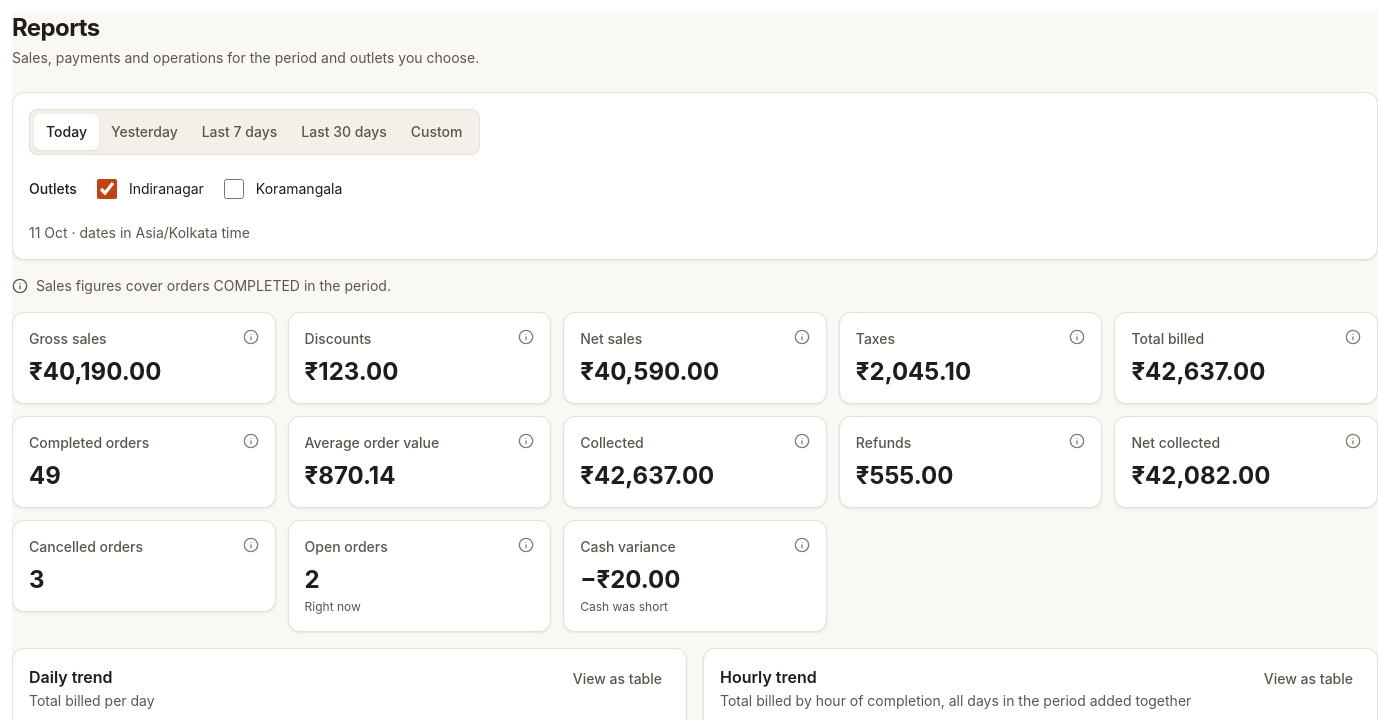
Test case: ReportsPage › shows each definition from the response when its info button is focused
Click the button named "How gross sales is calculated": (251, 337) [235,321,267,353]
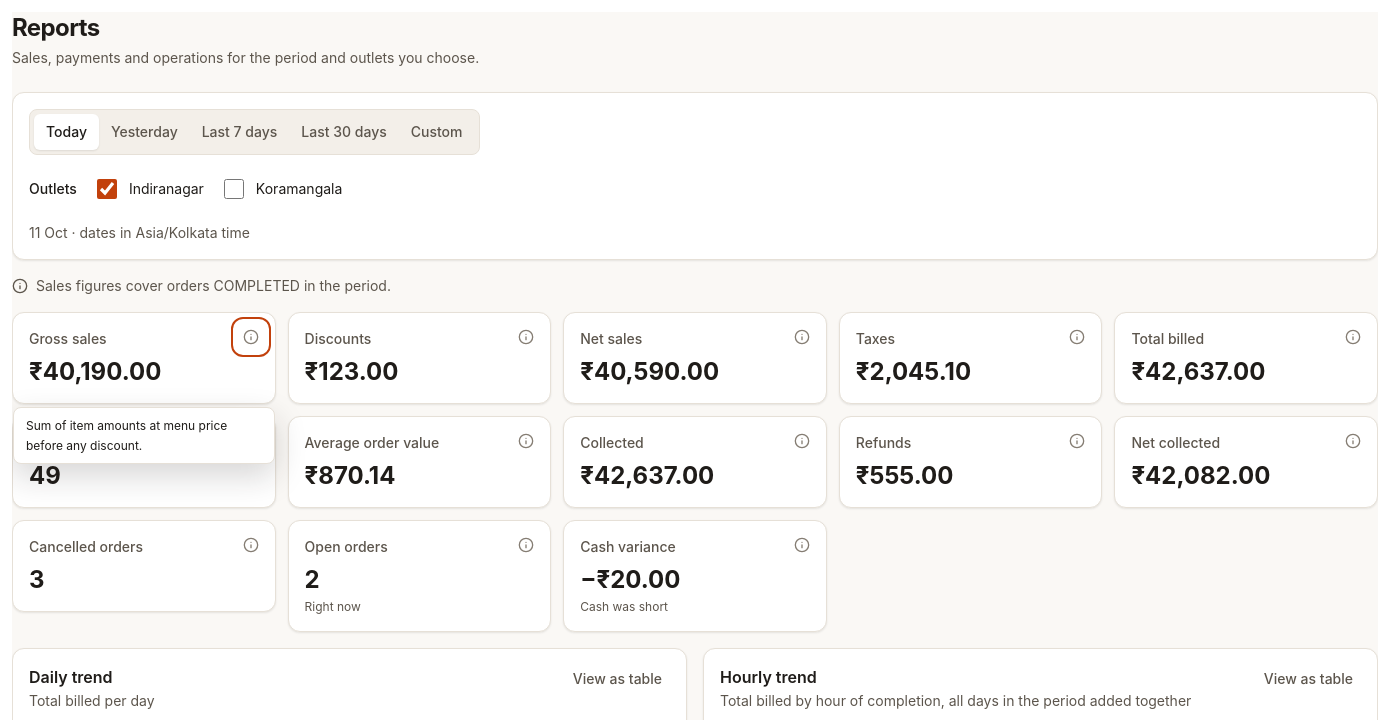
Check: the tooltip reads "Sum of item amounts at menu price before any discount.", box [26,418,227,452]
